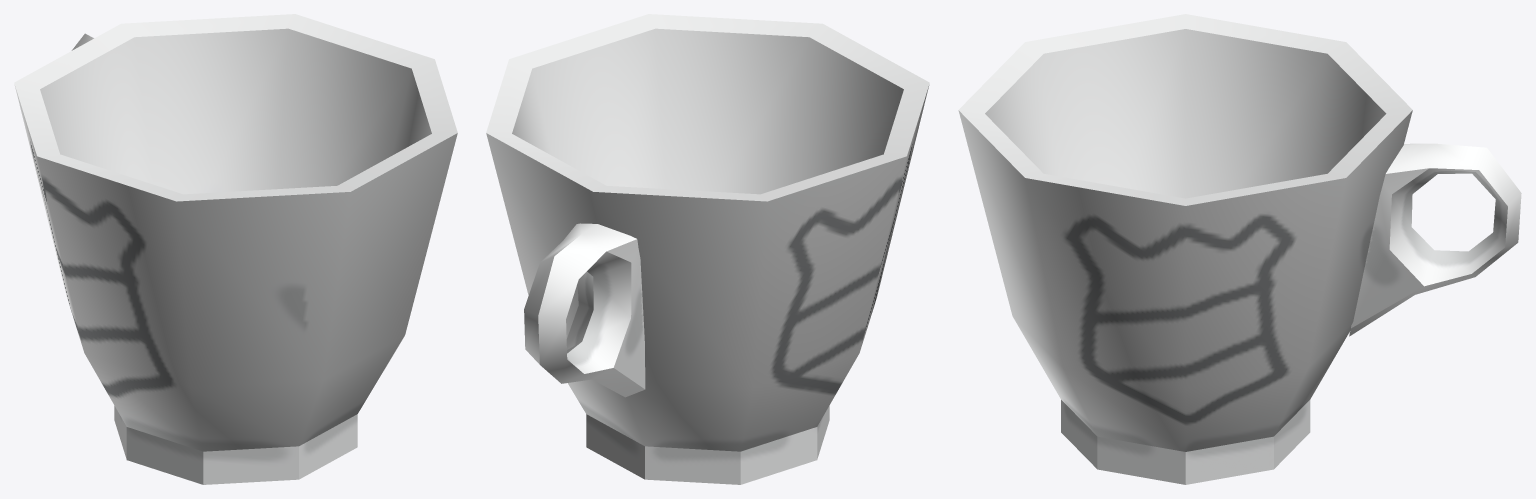
The model's file is obj_Teacup.fbx.
3 views of the same model, side by side, from view 1: azimuth 30°, elevation 25°; view 2: azimuth 150°, elevation 25°; view 3: azimuth 270°, elevation 25° (orthographic).
Parts seen in each view (by area): view 1: obj_TeaCup; view 2: obj_TeaCup; view 3: obj_TeaCup.
Boxes of the visible parts, x1,y1,x2,y2 form: obj_TeaCup: [14, 14, 457, 484]; obj_TeaCup: [486, 14, 929, 484]; obj_TeaCup: [958, 14, 1521, 484].
Bounding box in the file's own units: 0.1218 × 0.0953 × 0.151.
Materials: 1 (1 with a texture image).
